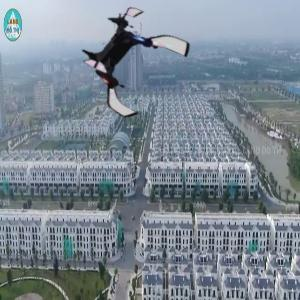drone: (76, 9, 187, 120)
